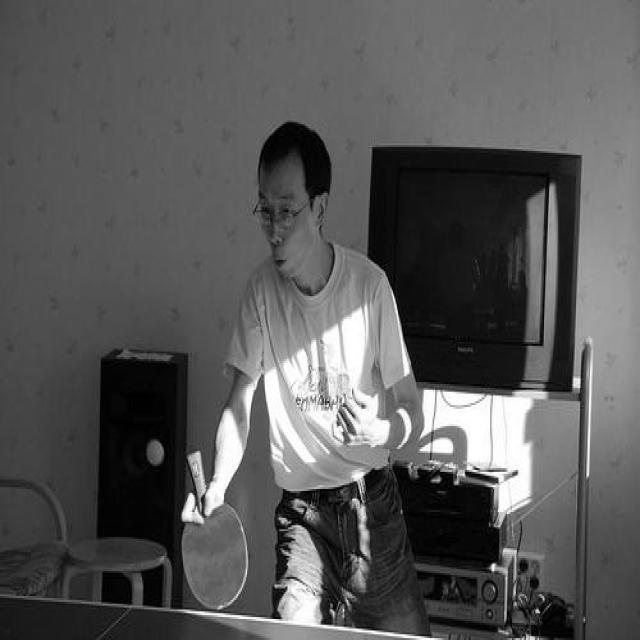ping-pong-ball: (144, 438, 164, 468)
